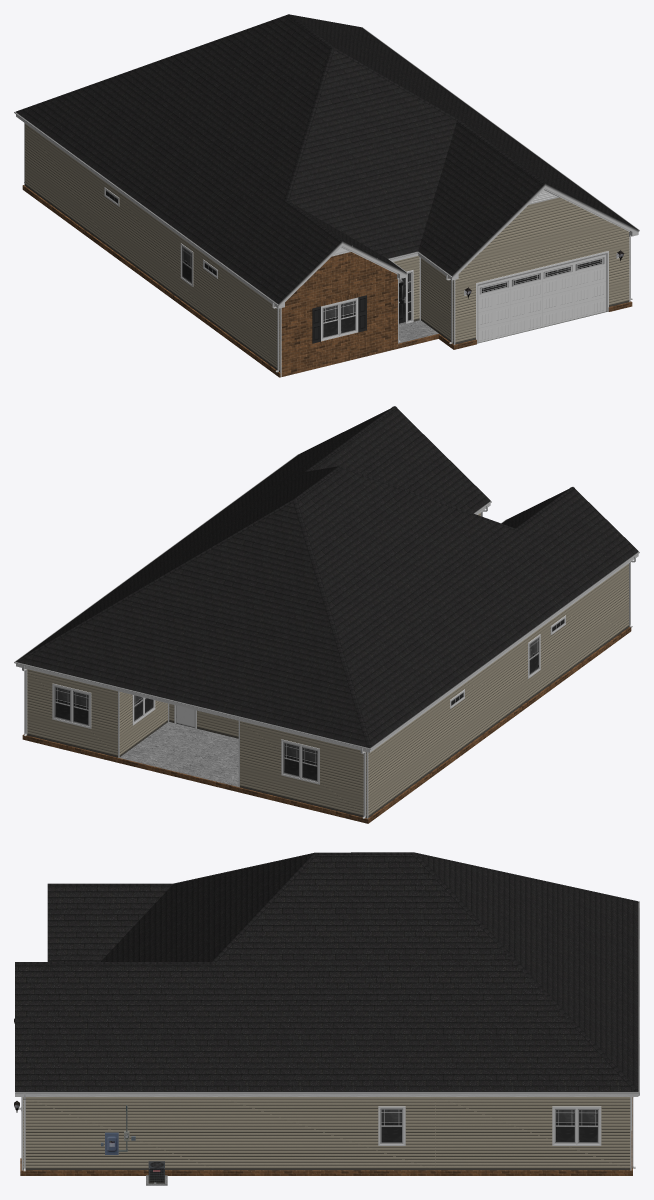
The model's file is house18_mirror1.fbx.
3 views of the same model, one above another, from view 1: azimuth 30°, elevation 25°; view 2: azimuth 150°, elevation 25°; view 3: azimuth 270°, elevation 25° (orthographic). The views are drawn at different scales.
Visible parts, largest first — view 1: house18_mirror1_LOD0; view 2: house18_mirror1_LOD0; view 3: house18_mirror1_LOD0.
Part boxes in pixels (x1,y1,x2,y2): house18_mirror1_LOD0: (14,14,639,377); house18_mirror1_LOD0: (14,406,639,823); house18_mirror1_LOD0: (14,852,639,1185).
Size of what is drawn, in the model's own units: 4.31 by 2.34 by 5.75.
